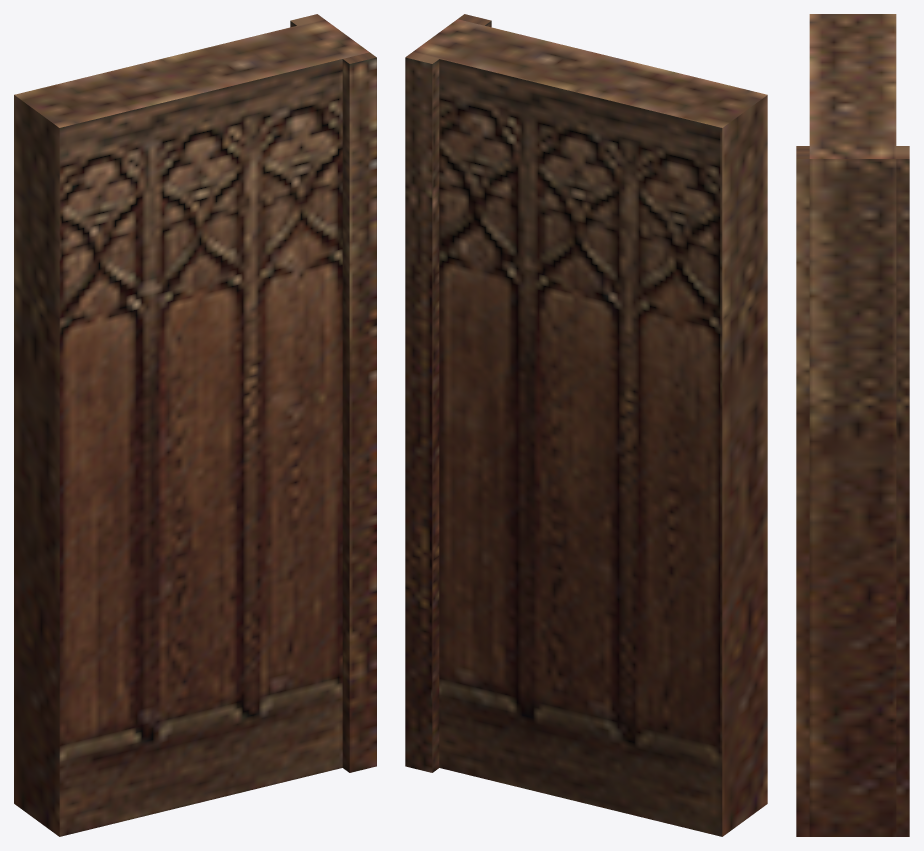
Rendered from WoodWallHalf.fbx.
The picture shows the model from 3 angles, left to right: view 1: azimuth 30°, elevation 25°; view 2: azimuth 150°, elevation 25°; view 3: azimuth 270°, elevation 25°; orthographic projection. The views are drawn at different scales.
Visible parts, largest first — view 1: Cube.006; view 2: Cube.006; view 3: Cube.006.
Boxes of the visible parts, <box> form: Cube.006: <box>14,14,376,836</box>; Cube.006: <box>405,14,767,836</box>; Cube.006: <box>796,14,909,836</box>.
Size of the model in its own units: 170 by 371 by 56.36.
1 material, 1 textured.
